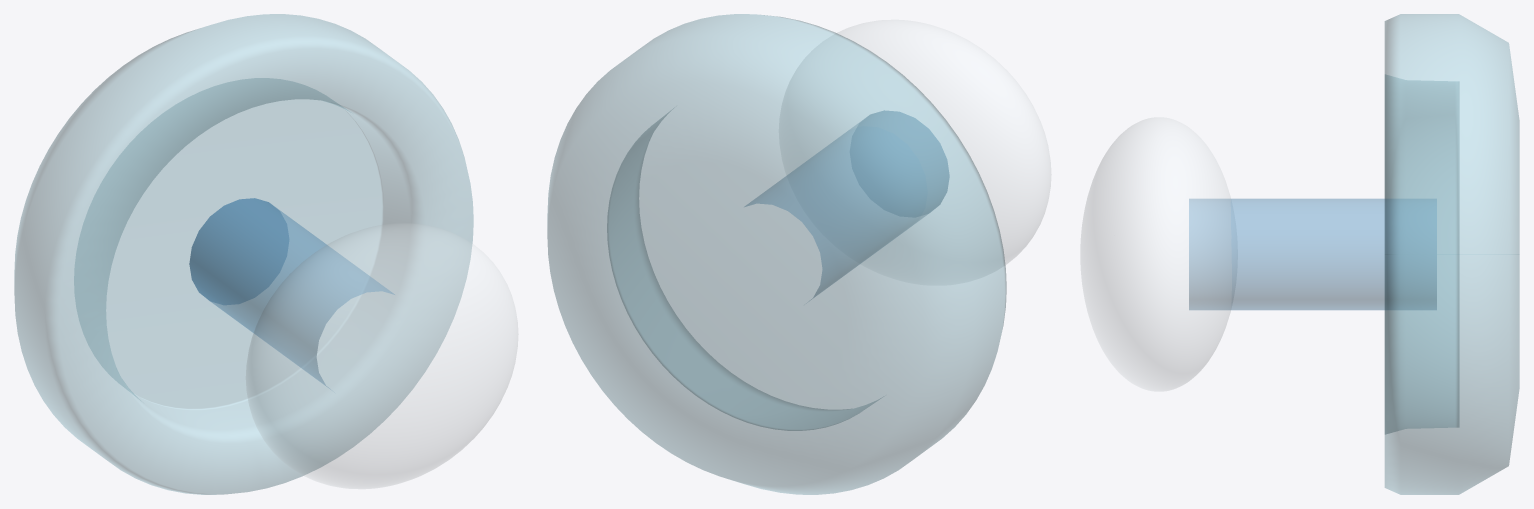
3 renders of one model, left to right at view 1: azimuth 30°, elevation 25°; view 2: azimuth 150°, elevation 25°; view 3: azimuth 270°, elevation 25°, orthographic. The views are drawn at different scales.
Visible parts, largest first — view 1: joystick-root, joystick-crown, joystick-stem; view 2: joystick-root, joystick-crown, joystick-stem; view 3: joystick-root, joystick-crown, joystick-stem.
Boxes of the visible parts, <box> form: joystick-root: <box>14,14,473,494</box>; joystick-crown: <box>246,223,518,488</box>; joystick-stem: <box>189,198,394,388</box>; joystick-root: <box>547,14,1006,494</box>; joystick-crown: <box>837,20,1051,264</box>; joystick-stem: <box>745,110,949,299</box>; joystick-root: <box>1384,14,1519,494</box>; joystick-crown: <box>1080,117,1231,391</box>; joystick-stem: <box>1189,199,1436,309</box>.
Size of the model in its own units: 1.28 by 1.28 by 1.17.
